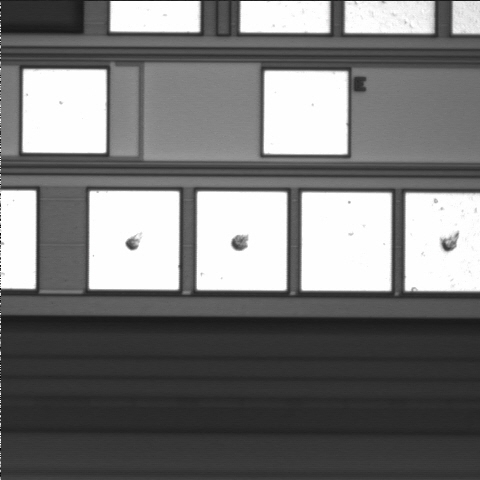pad: (89, 191, 179, 290), (197, 191, 287, 290), (301, 192, 391, 291), (23, 69, 106, 153), (264, 71, 348, 154)
